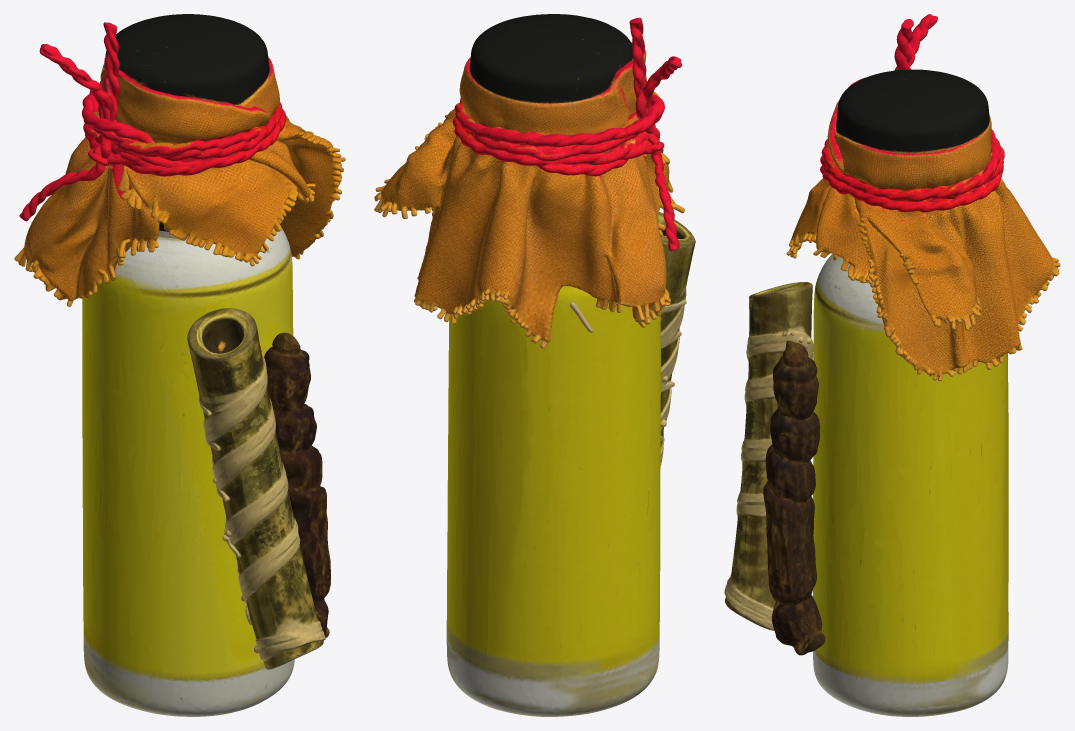
File: original-phraioil.glb
The picture shows the model from 3 angles, left to right: view 1: azimuth 30°, elevation 25°; view 2: azimuth 150°, elevation 25°; view 3: azimuth 270°, elevation 25°; orthographic projection. The views are drawn at different scales.
Size of the model in its own units: 0.8848 by 1.9 by 0.9249.
Materials: 1 (1 with a texture image).
